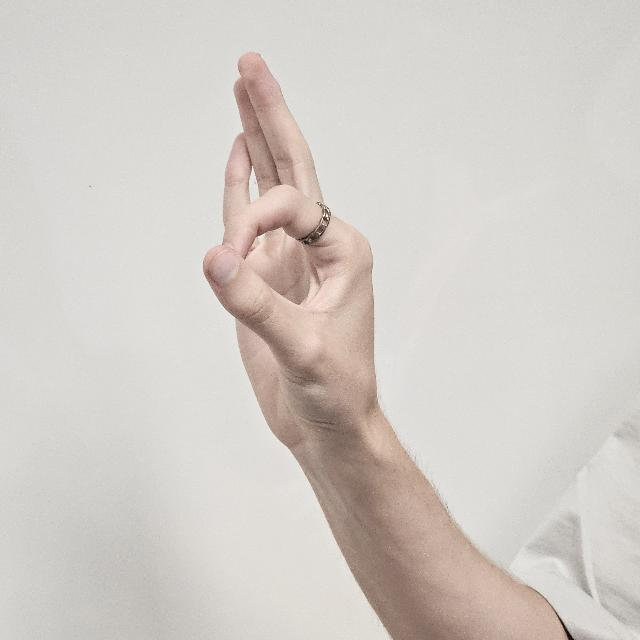Bolinha: (206, 54, 390, 486)
